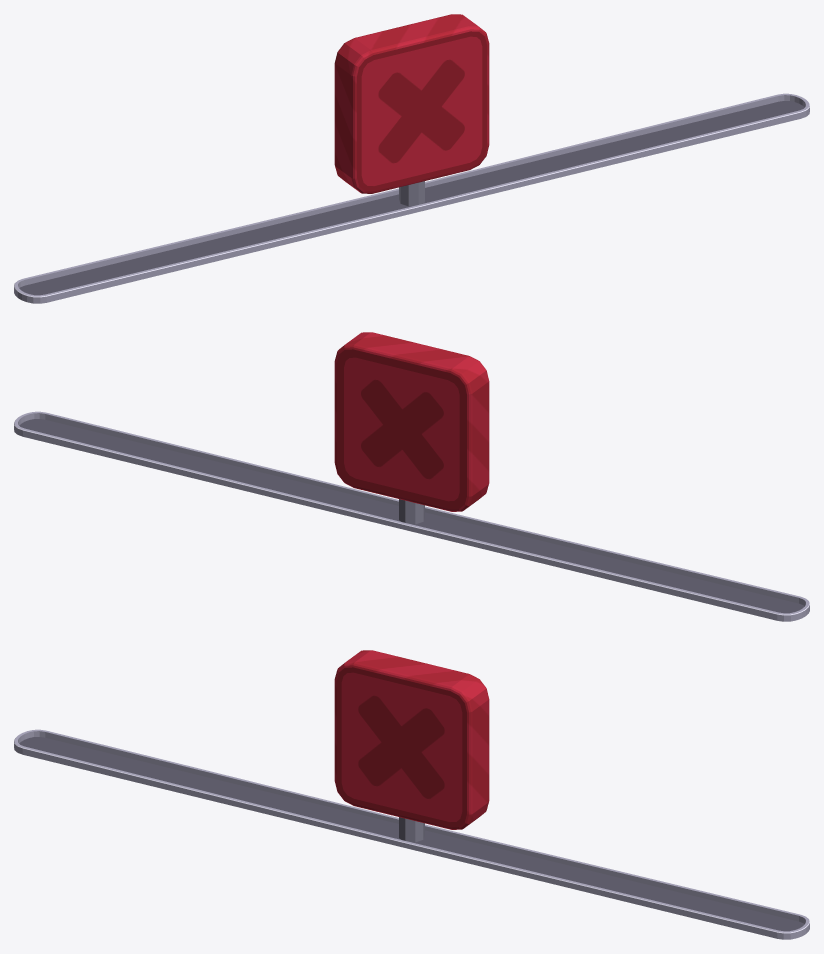
File: Hurdle9.fbx
3 renders of one model, top to bottom at view 1: azimuth 30°, elevation 25°; view 2: azimuth 150°, elevation 25°; view 3: azimuth 330°, elevation 25°, orthographic.
Visible parts, largest first — view 1: Hurdle9; view 2: Hurdle9; view 3: Hurdle9.
Part boxes in pixels (x1,y1,x2,y2): Hurdle9: (14,14,809,303); Hurdle9: (14,332,809,621); Hurdle9: (14,650,809,939).
Bounding box in the file's own units: 9.92 × 2.04 × 0.5226.
Materials: 1 (1 with a texture image).
